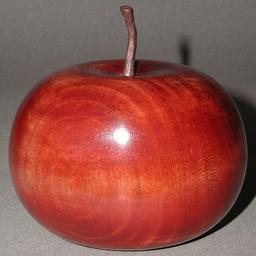apple: (5, 49, 246, 249)
